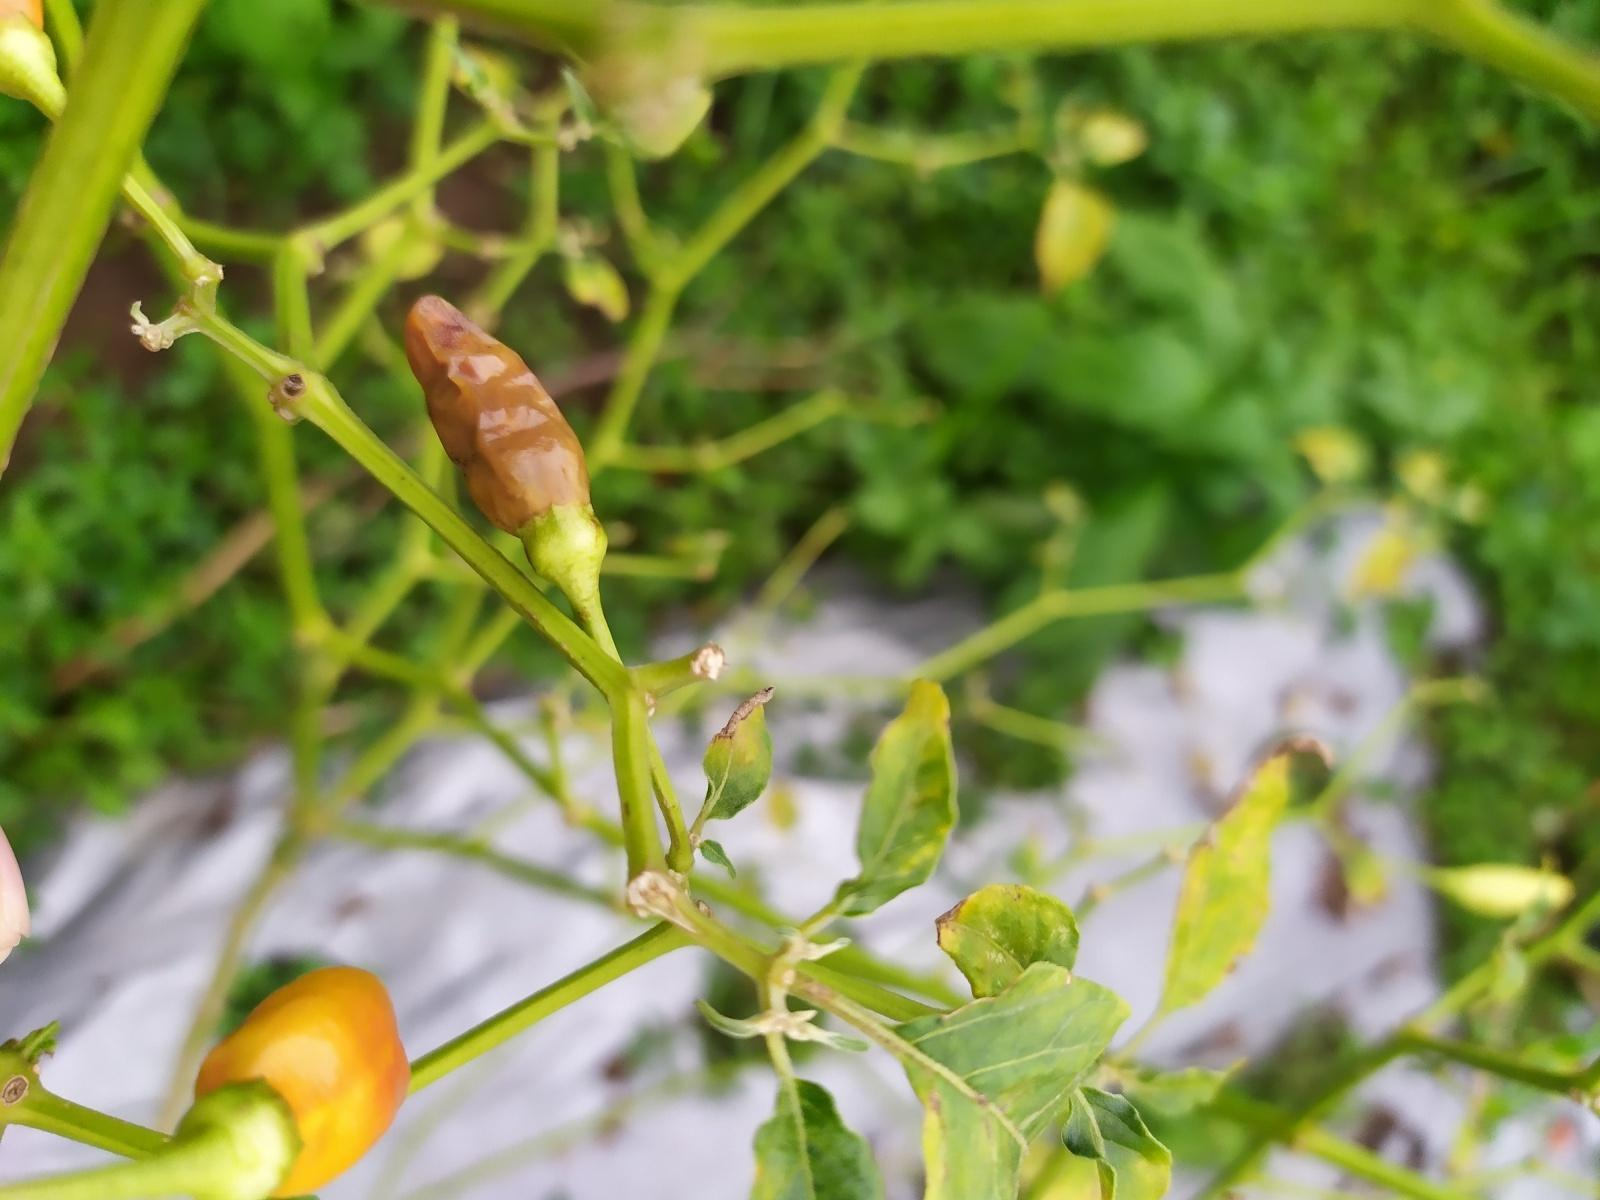cabai_normal: (191, 964, 409, 1199)
lalat_buah: (401, 295, 598, 576)
